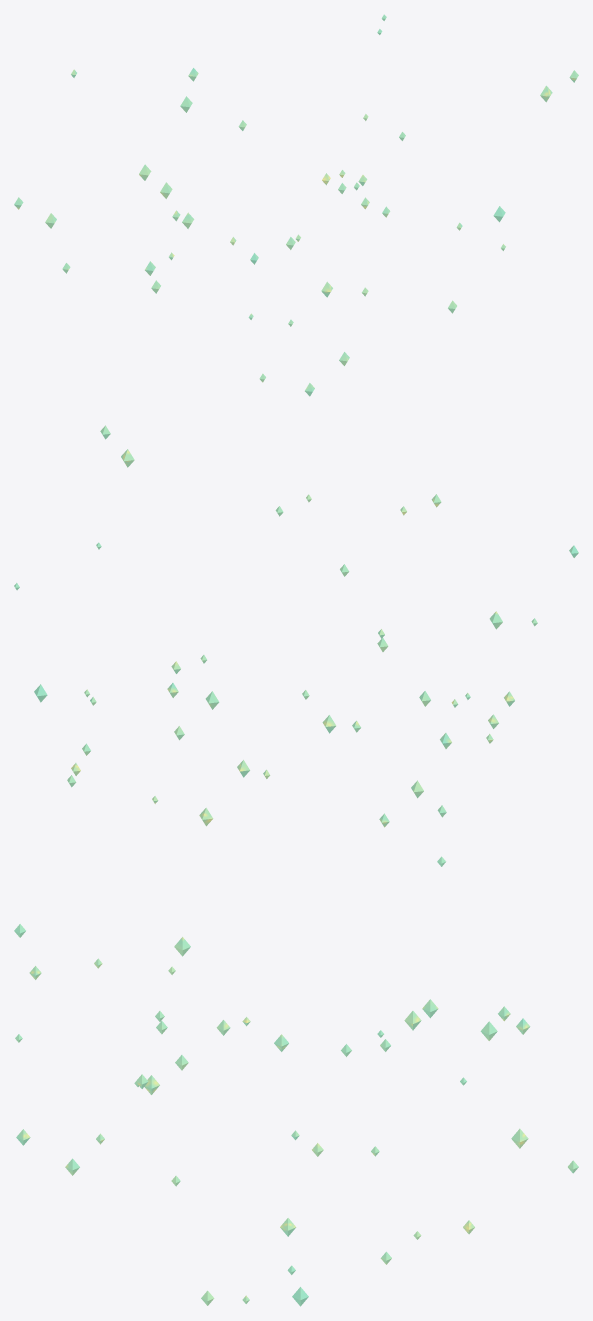
Rendered from spore_cloud.glb.
3 renders of one model, top to bottom at view 1: azimuth 30°, elevation 25°; view 2: azimuth 150°, elevation 25°; view 3: azimuth 270°, elevation 25°, orthographic. The views are drawn at different scales.
Visible parts, largest first — view 1: spore_cloud__glow; view 2: spore_cloud__glow; view 3: spore_cloud__glow.
Part boxes in pixels (bbox=[...]): spore_cloud__glow: bbox=[14, 14, 578, 396]; spore_cloud__glow: bbox=[14, 425, 578, 827]; spore_cloud__glow: bbox=[14, 856, 578, 1306].
Size of the model in its own units: 4.87 by 2.71 by 4.83.
1 material, 1 textured.
